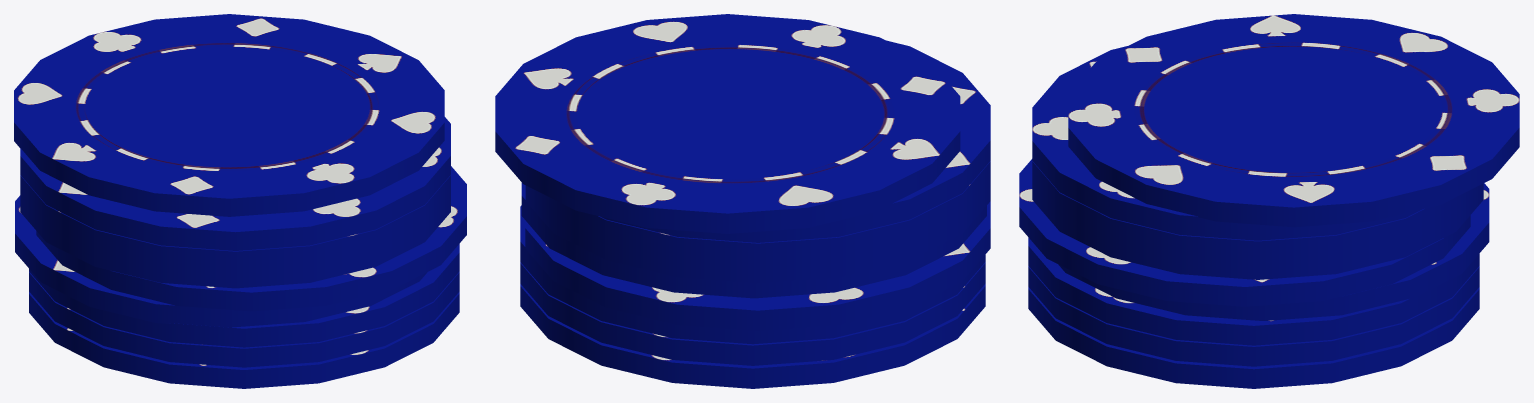
Rendered from pokerChipBlueStack.FBX.
3 views of the same model, side by side, from view 1: azimuth 30°, elevation 25°; view 2: azimuth 150°, elevation 25°; view 3: azimuth 270°, elevation 25° (orthographic). The views are drawn at different scales.
Parts seen in each view (by area): view 1: Cylinder009; view 2: Cylinder009; view 3: Cylinder009.
Part boxes in pixels (x1=…): Cylinder009: x1=14, y1=14, x2=466, y2=388; Cylinder009: x1=495, y1=14, x2=990, y2=388; Cylinder009: x1=1019, y1=14, x2=1519, y2=388.
Size of the model in its own units: 4.26 by 1.82 by 4.49.
1 material, 1 textured.
